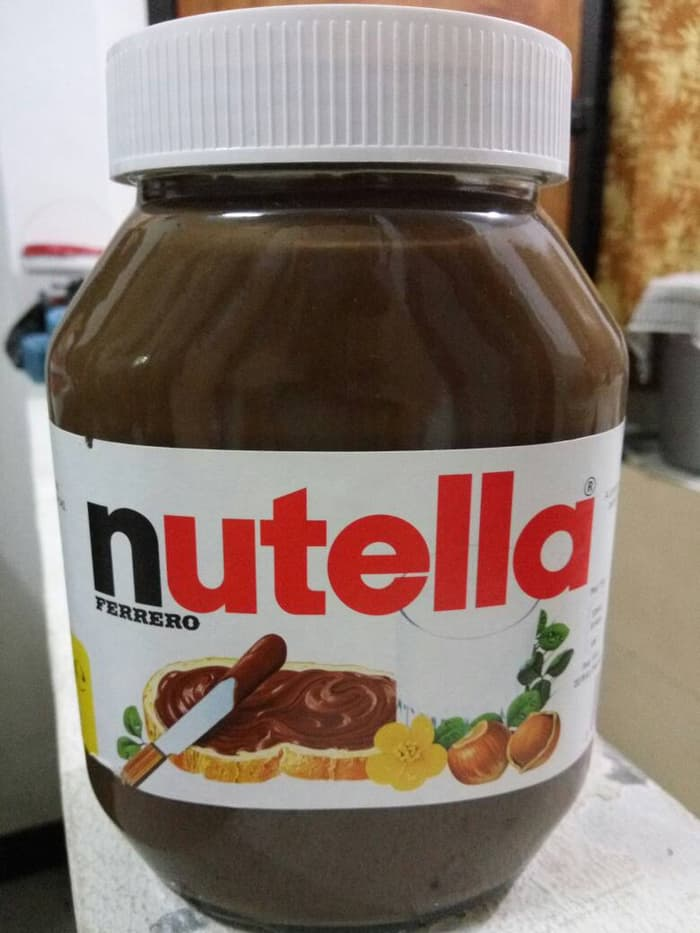nutella: (43, 2, 629, 933)
